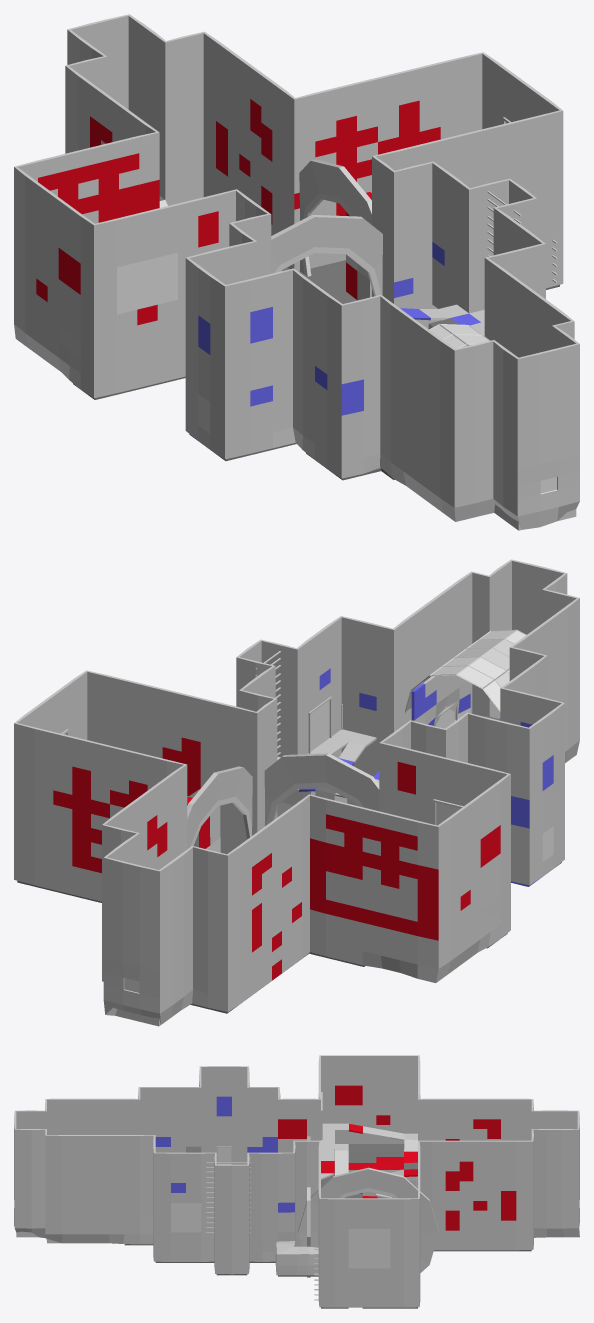
File: stage2.fbx
3 renders of one model, top to bottom at view 1: azimuth 30°, elevation 25°; view 2: azimuth 150°, elevation 25°; view 3: azimuth 270°, elevation 25°, orthographic. The views are drawn at different scales.
Parts seen in each view (by area): view 1: 壁.002, 円, 円.001, 床, 平面.002, 円形屋根, 平面.006; view 2: 壁.002, 円, 円形屋根, 円.001, 平面.002, 平面.006, 床; view 3: 壁.002, 円.001, 平面.005, 平面.004, 床, 立方体.008.
Part boxes in pixels (x1=…): 壁.002: x1=14, y1=14, x2=579, y2=530; 円: x1=271, y1=215, x2=382, y2=296; 円.001: x1=299, y1=159, x2=371, y2=276; 床: x1=73, y1=260, x2=559, y2=480; 平面.002: x1=400, y1=304, x2=484, y2=335; 円形屋根: x1=429, y1=324, x2=489, y2=348; 平面.006: x1=346, y1=192, x2=371, y2=300; 壁.002: x1=14, y1=559, x2=579, y2=1026; 円: x1=264, y1=753, x2=379, y2=826; 円形屋根: x1=405, y1=629, x2=526, y2=713; 円.001: x1=187, y1=766, x2=252, y2=848; 平面.002: x1=277, y1=729, x2=376, y2=806; 平面.006: x1=187, y1=789, x2=220, y2=852; 床: x1=17, y1=799, x2=561, y2=1013; 壁.002: x1=14, y1=1055, x2=579, y2=1307; 円.001: x1=298, y1=1167, x2=438, y2=1272; 平面.005: x1=335, y1=1144, x2=417, y2=1198; 平面.004: x1=321, y1=1123, x2=417, y2=1179; 床: x1=124, y1=1165, x2=531, y2=1308; 立方体.008: x1=206, y1=1162, x2=250, y2=1233.
Size of the model in its own units: 37592 by 18630 by 62395.
